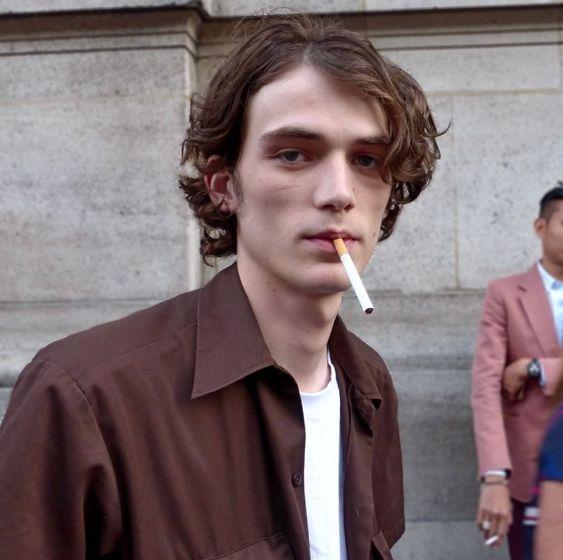cigarette: (333, 235, 375, 316), (482, 529, 507, 548)
